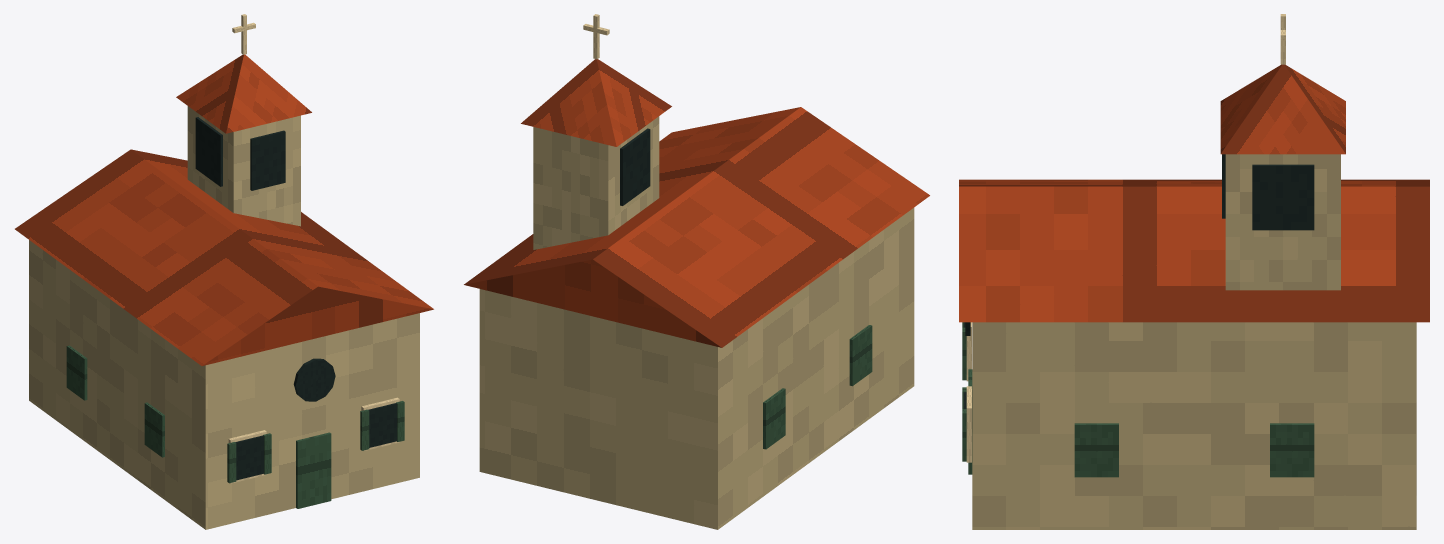
File: Church.fbx
3 renders of one model, left to right at view 1: azimuth 30°, elevation 25°; view 2: azimuth 150°, elevation 25°; view 3: azimuth 270°, elevation 25°, orthographic. The views are drawn at different scales.
Parts seen in each view (by area): view 1: Paredes.020, Telhado duas águas.020, Campanário.002, Cone.002, Porta.020, Sino escuro.002, Vão torre lateral.004, Rosácea, Janela.056, Janela.057, Janela lateral.081, Janela lateral.080; view 2: Paredes.020, Telhado duas águas.020, Campanário.002, Cone.002, Vão torre lateral.004, Janela lateral.080, Janela lateral.081; view 3: Paredes.020, Telhado duas águas.020, Campanário.002, Cone.002, Vão torre lateral.005, Janela lateral.082, Janela lateral.083.
Part boxes in pixels (bbox=[...]): Paredes.020: bbox=[29, 240, 419, 529]; Telhado duas águas.020: bbox=[15, 149, 433, 365]; Campanário.002: bbox=[187, 106, 300, 226]; Cone.002: bbox=[176, 54, 311, 133]; Porta.020: bbox=[296, 432, 331, 508]; Sino escuro.002: bbox=[250, 130, 285, 190]; Vão torre lateral.004: bbox=[195, 117, 222, 186]; Rosácea: bbox=[293, 358, 335, 401]; Janela.056: bbox=[235, 435, 263, 480]; Janela.057: bbox=[368, 403, 396, 447]; Janela lateral.081: bbox=[66, 345, 87, 400]; Janela lateral.080: bbox=[144, 402, 164, 457]; Paredes.020: bbox=[479, 207, 914, 529]; Telhado duas águas.020: bbox=[464, 107, 929, 347]; Campanário.002: bbox=[533, 116, 659, 249]; Cone.002: bbox=[521, 59, 671, 146]; Vão torre lateral.004: bbox=[620, 128, 650, 205]; Janela lateral.080: bbox=[849, 325, 872, 386]; Janela lateral.081: bbox=[763, 388, 785, 449]; Paredes.020: bbox=[972, 322, 1416, 529]; Telhado duas águas.020: bbox=[959, 179, 1429, 322]; Campanário.002: bbox=[1225, 154, 1340, 290]; Cone.002: bbox=[1220, 64, 1345, 154]; Vão torre lateral.005: bbox=[1252, 164, 1314, 230]; Janela lateral.082: bbox=[1074, 423, 1118, 477]; Janela lateral.083: bbox=[1270, 423, 1314, 477].
Size of the model in its own units: 760 by 1200 by 1060.
5 materials, 5 textured.
